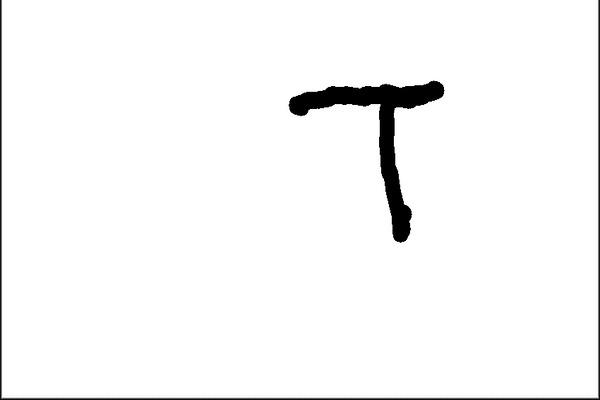T: (282, 77, 454, 254)
